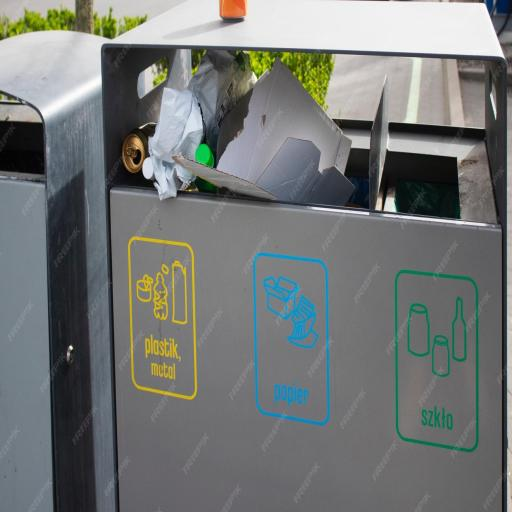Contenedor_Lleno: (100, 1, 507, 512)
